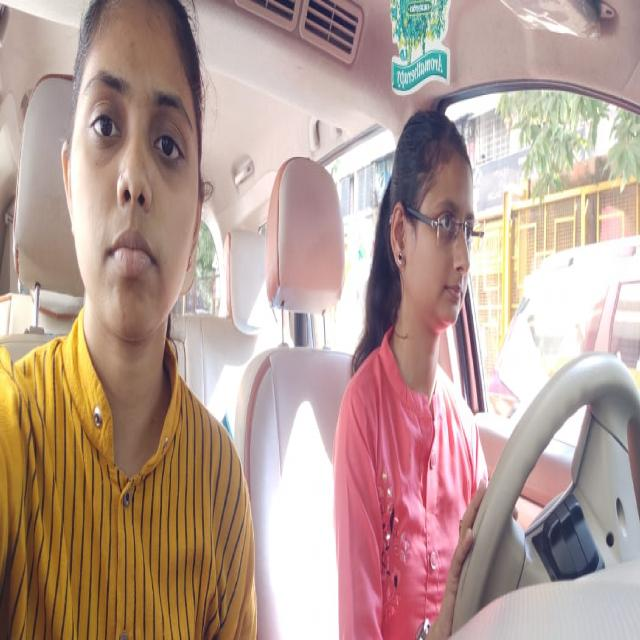person: (52, 0, 220, 370), (387, 104, 485, 346)
